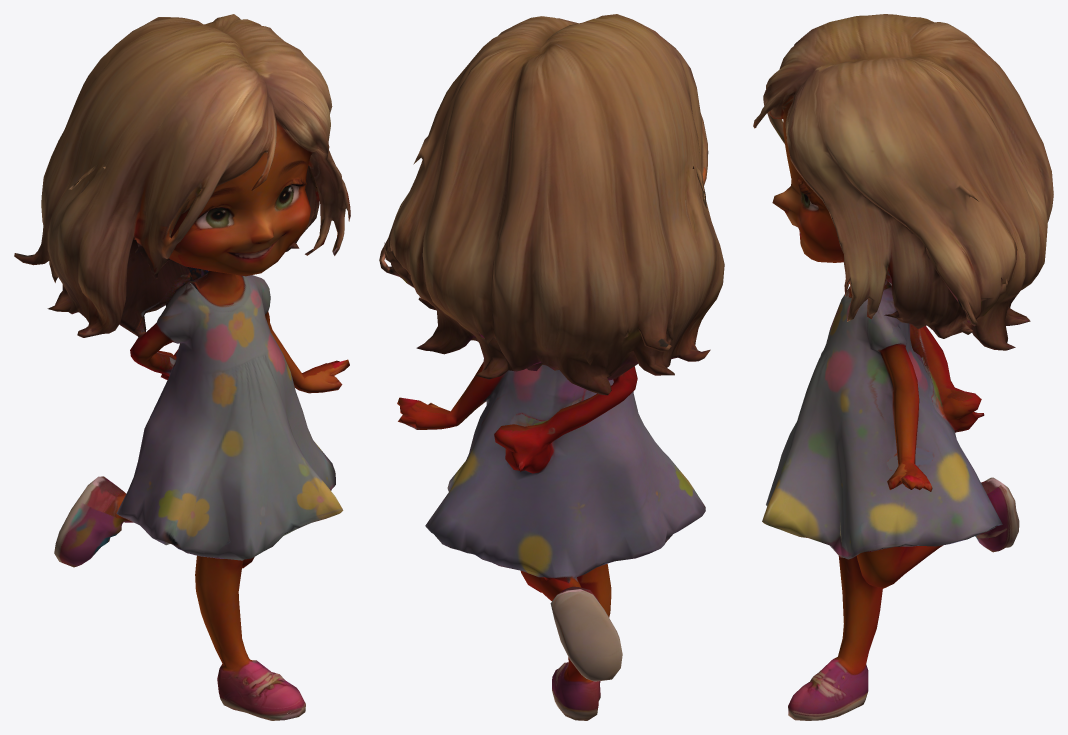
The model's file is sister.glb.
3 renders of one model, left to right at view 1: azimuth 30°, elevation 25°; view 2: azimuth 150°, elevation 25°; view 3: azimuth 270°, elevation 25°, orthographic. The views are drawn at different scales.
Bounding box in the file's own units: 30793 × 65669 × 26817.
Materials: 1 (1 with a texture image).
